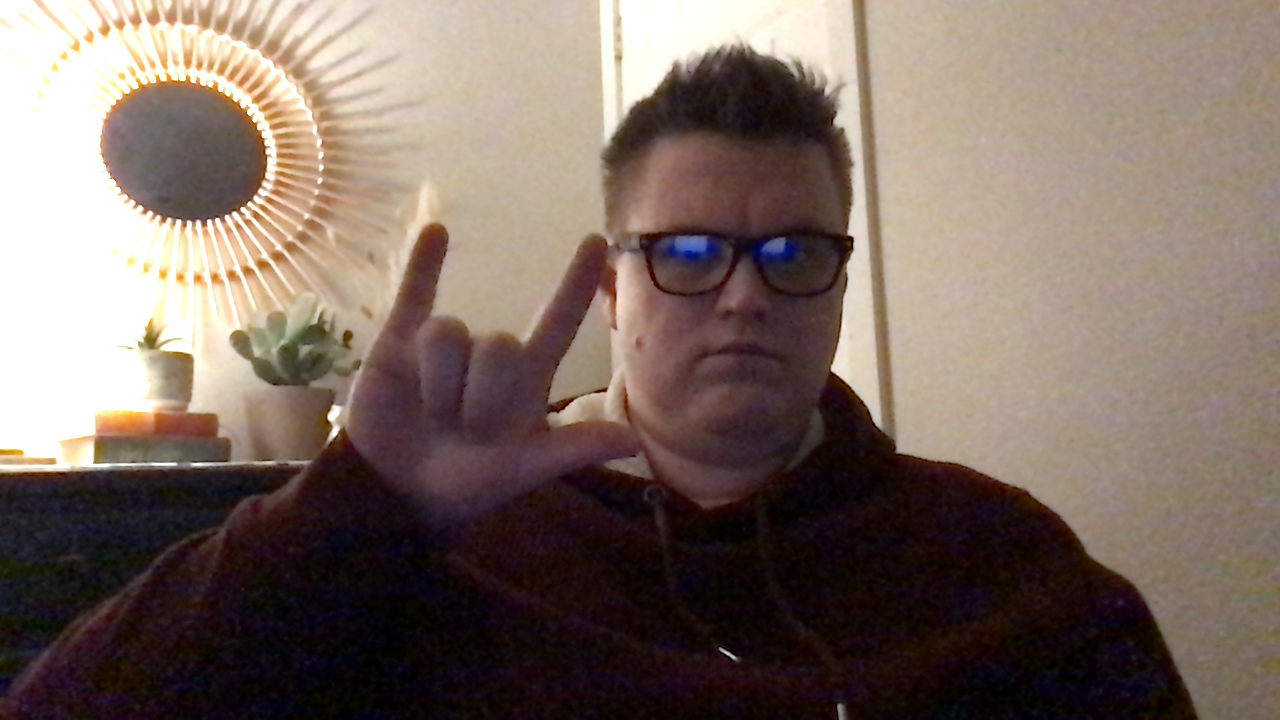iloveyou: (343, 221, 653, 535)
